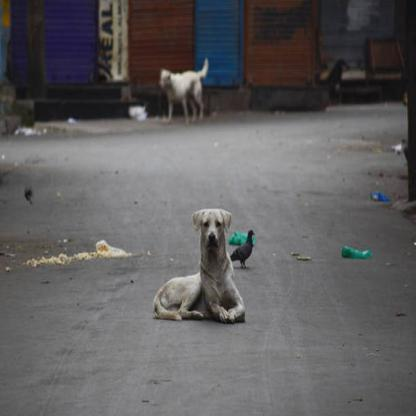dog: (162, 198, 247, 331), (156, 66, 215, 134)
